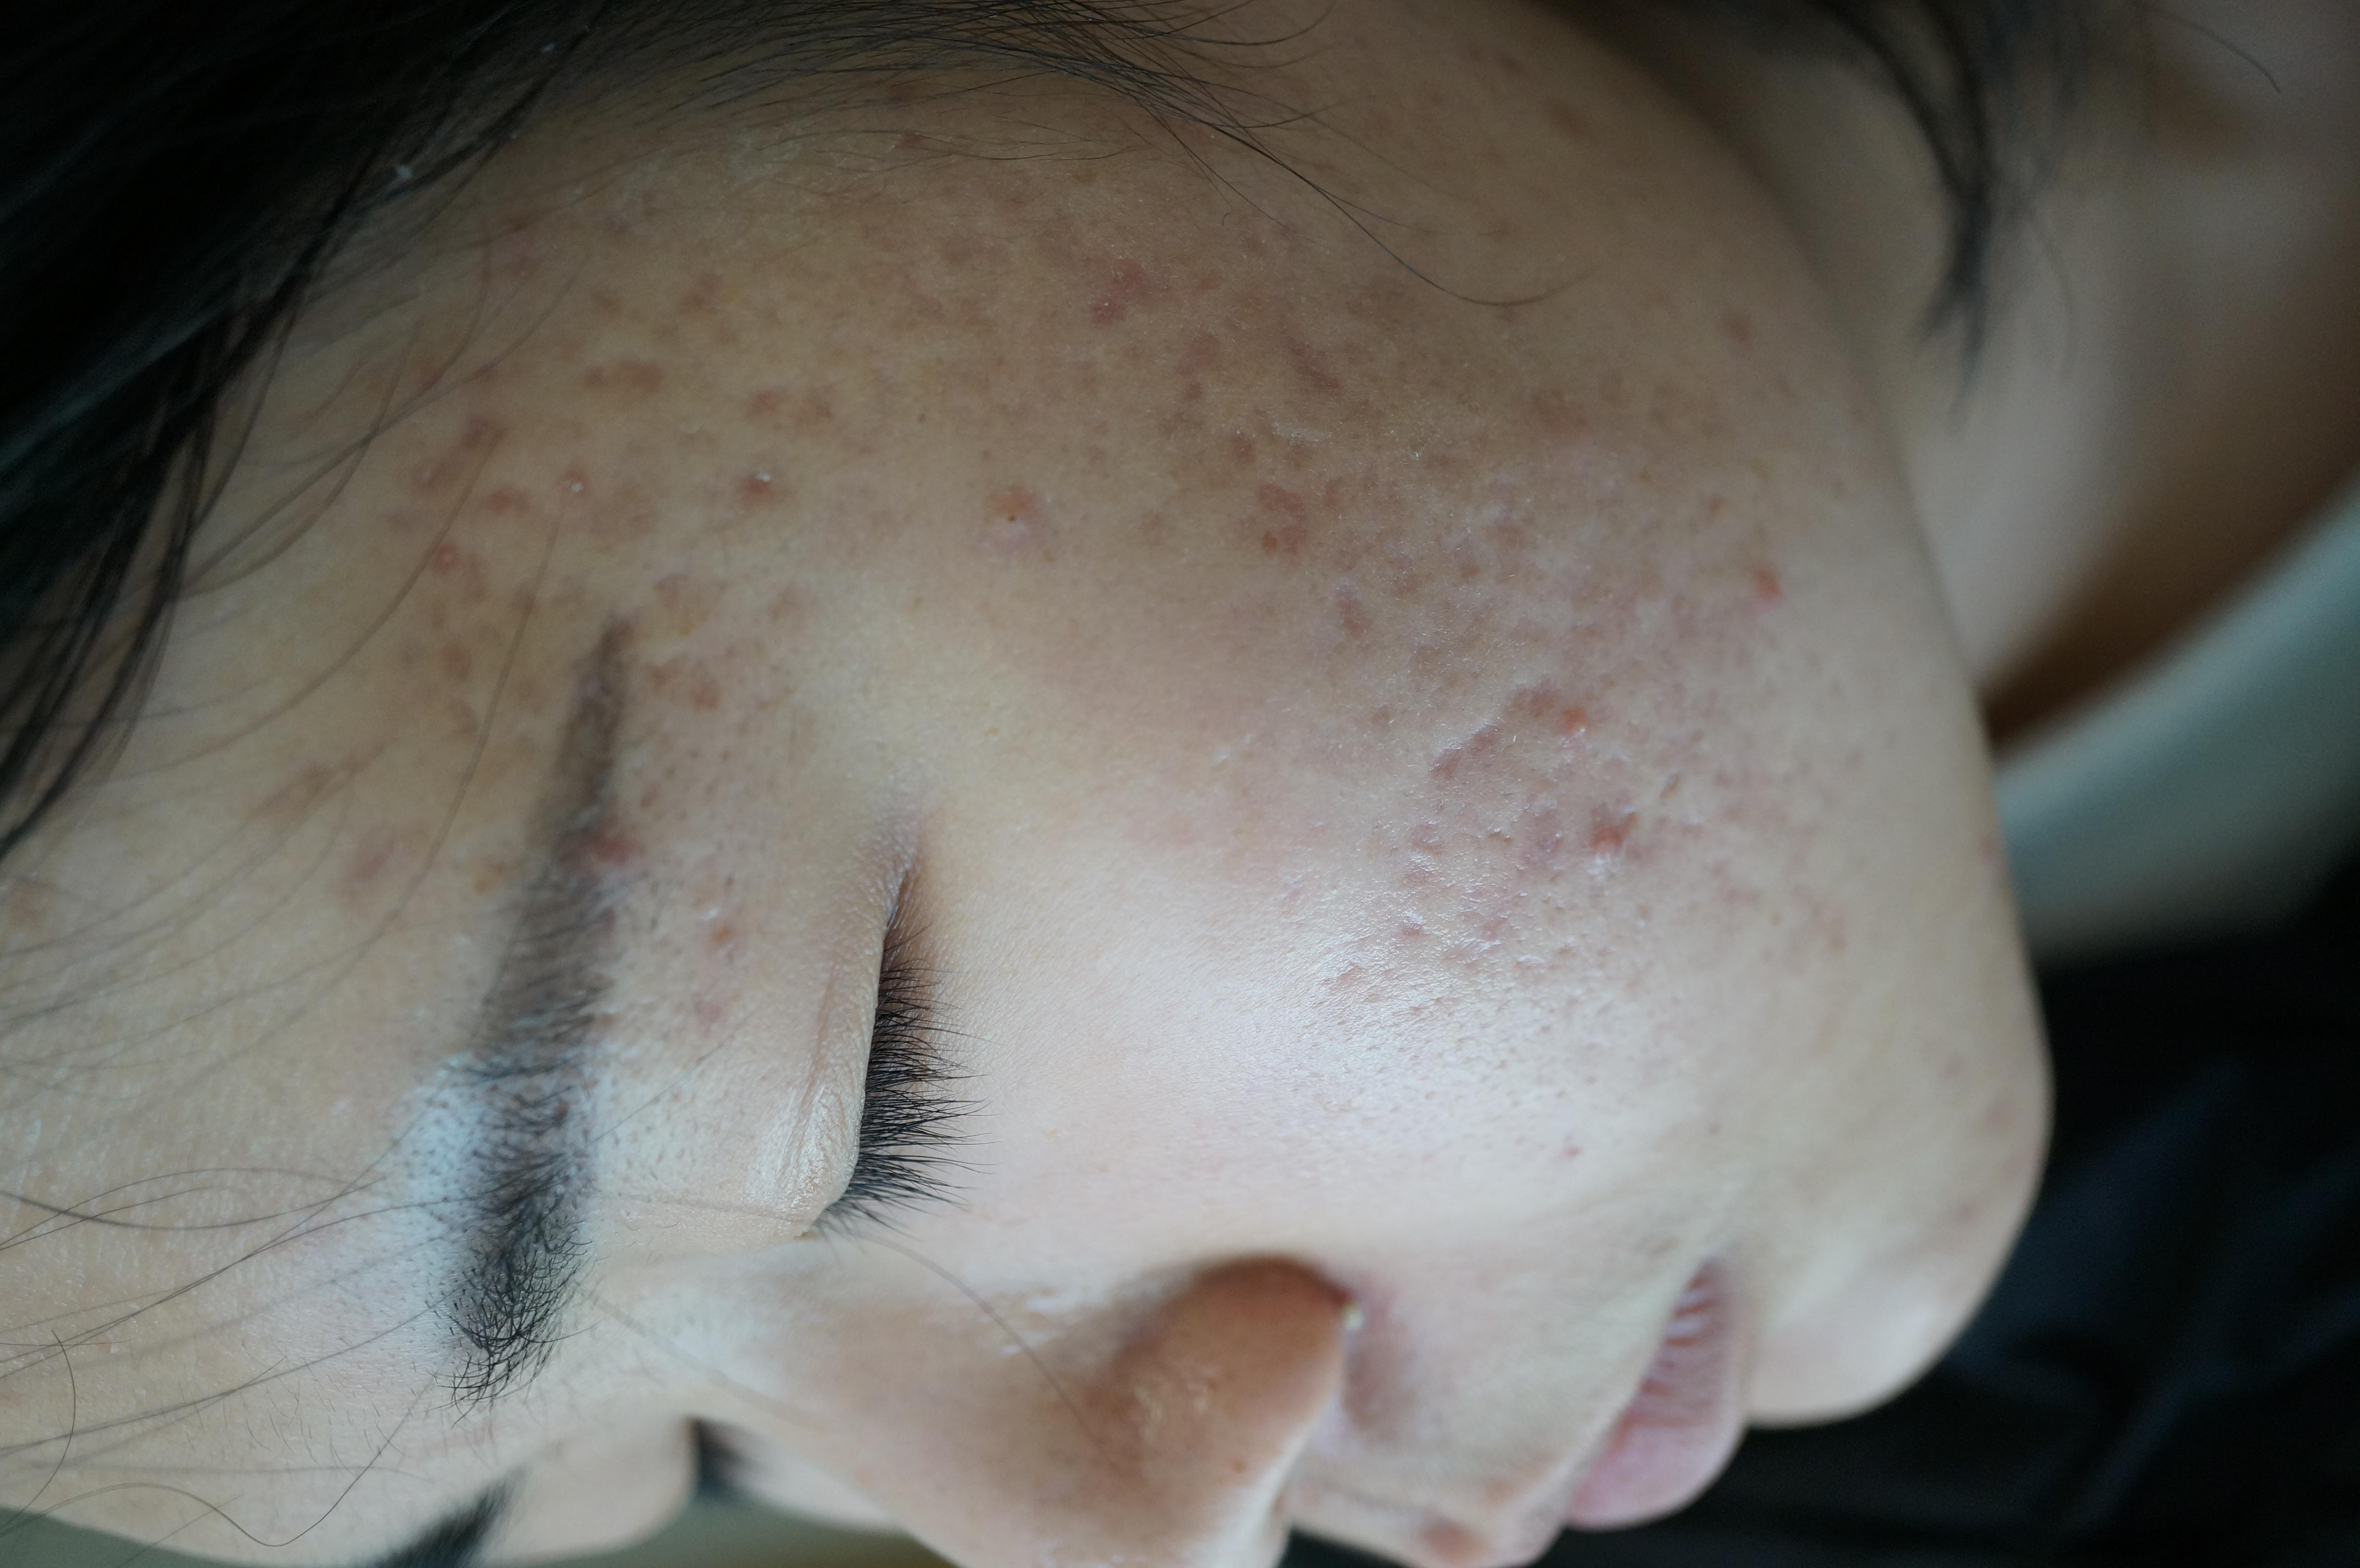fore: (434, 609, 527, 717), (577, 334, 674, 434), (1573, 808, 1664, 913), (1221, 472, 1324, 562), (738, 341, 845, 425), (1716, 537, 1807, 621), (402, 397, 490, 481), (406, 513, 481, 597), (714, 453, 801, 518), (1512, 684, 1595, 744), (458, 469, 527, 525), (1512, 808, 1568, 864)
